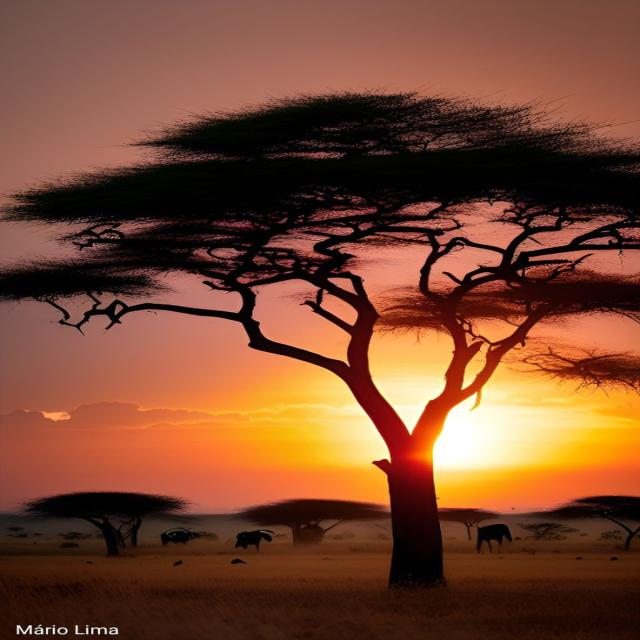Acacia: (62, 108, 623, 481), (38, 489, 175, 556)
